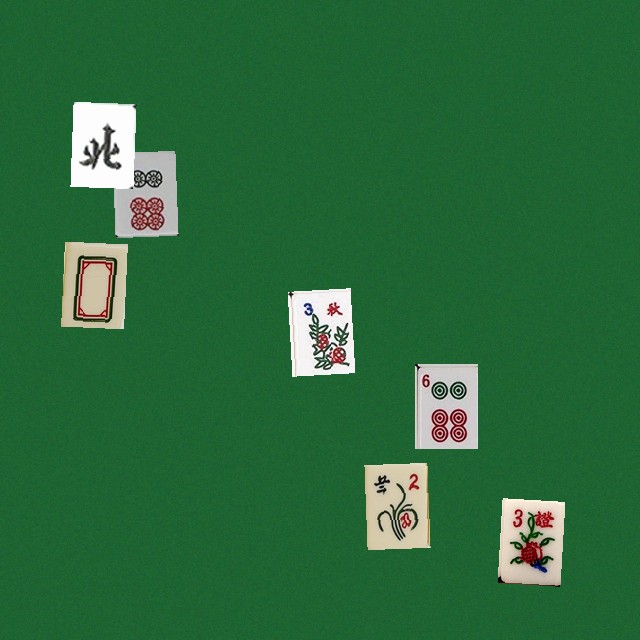tile: (414, 363, 477, 448), (364, 462, 427, 547), (287, 288, 350, 373), (61, 241, 124, 326), (112, 150, 175, 235), (497, 498, 560, 583), (70, 101, 133, 186)
